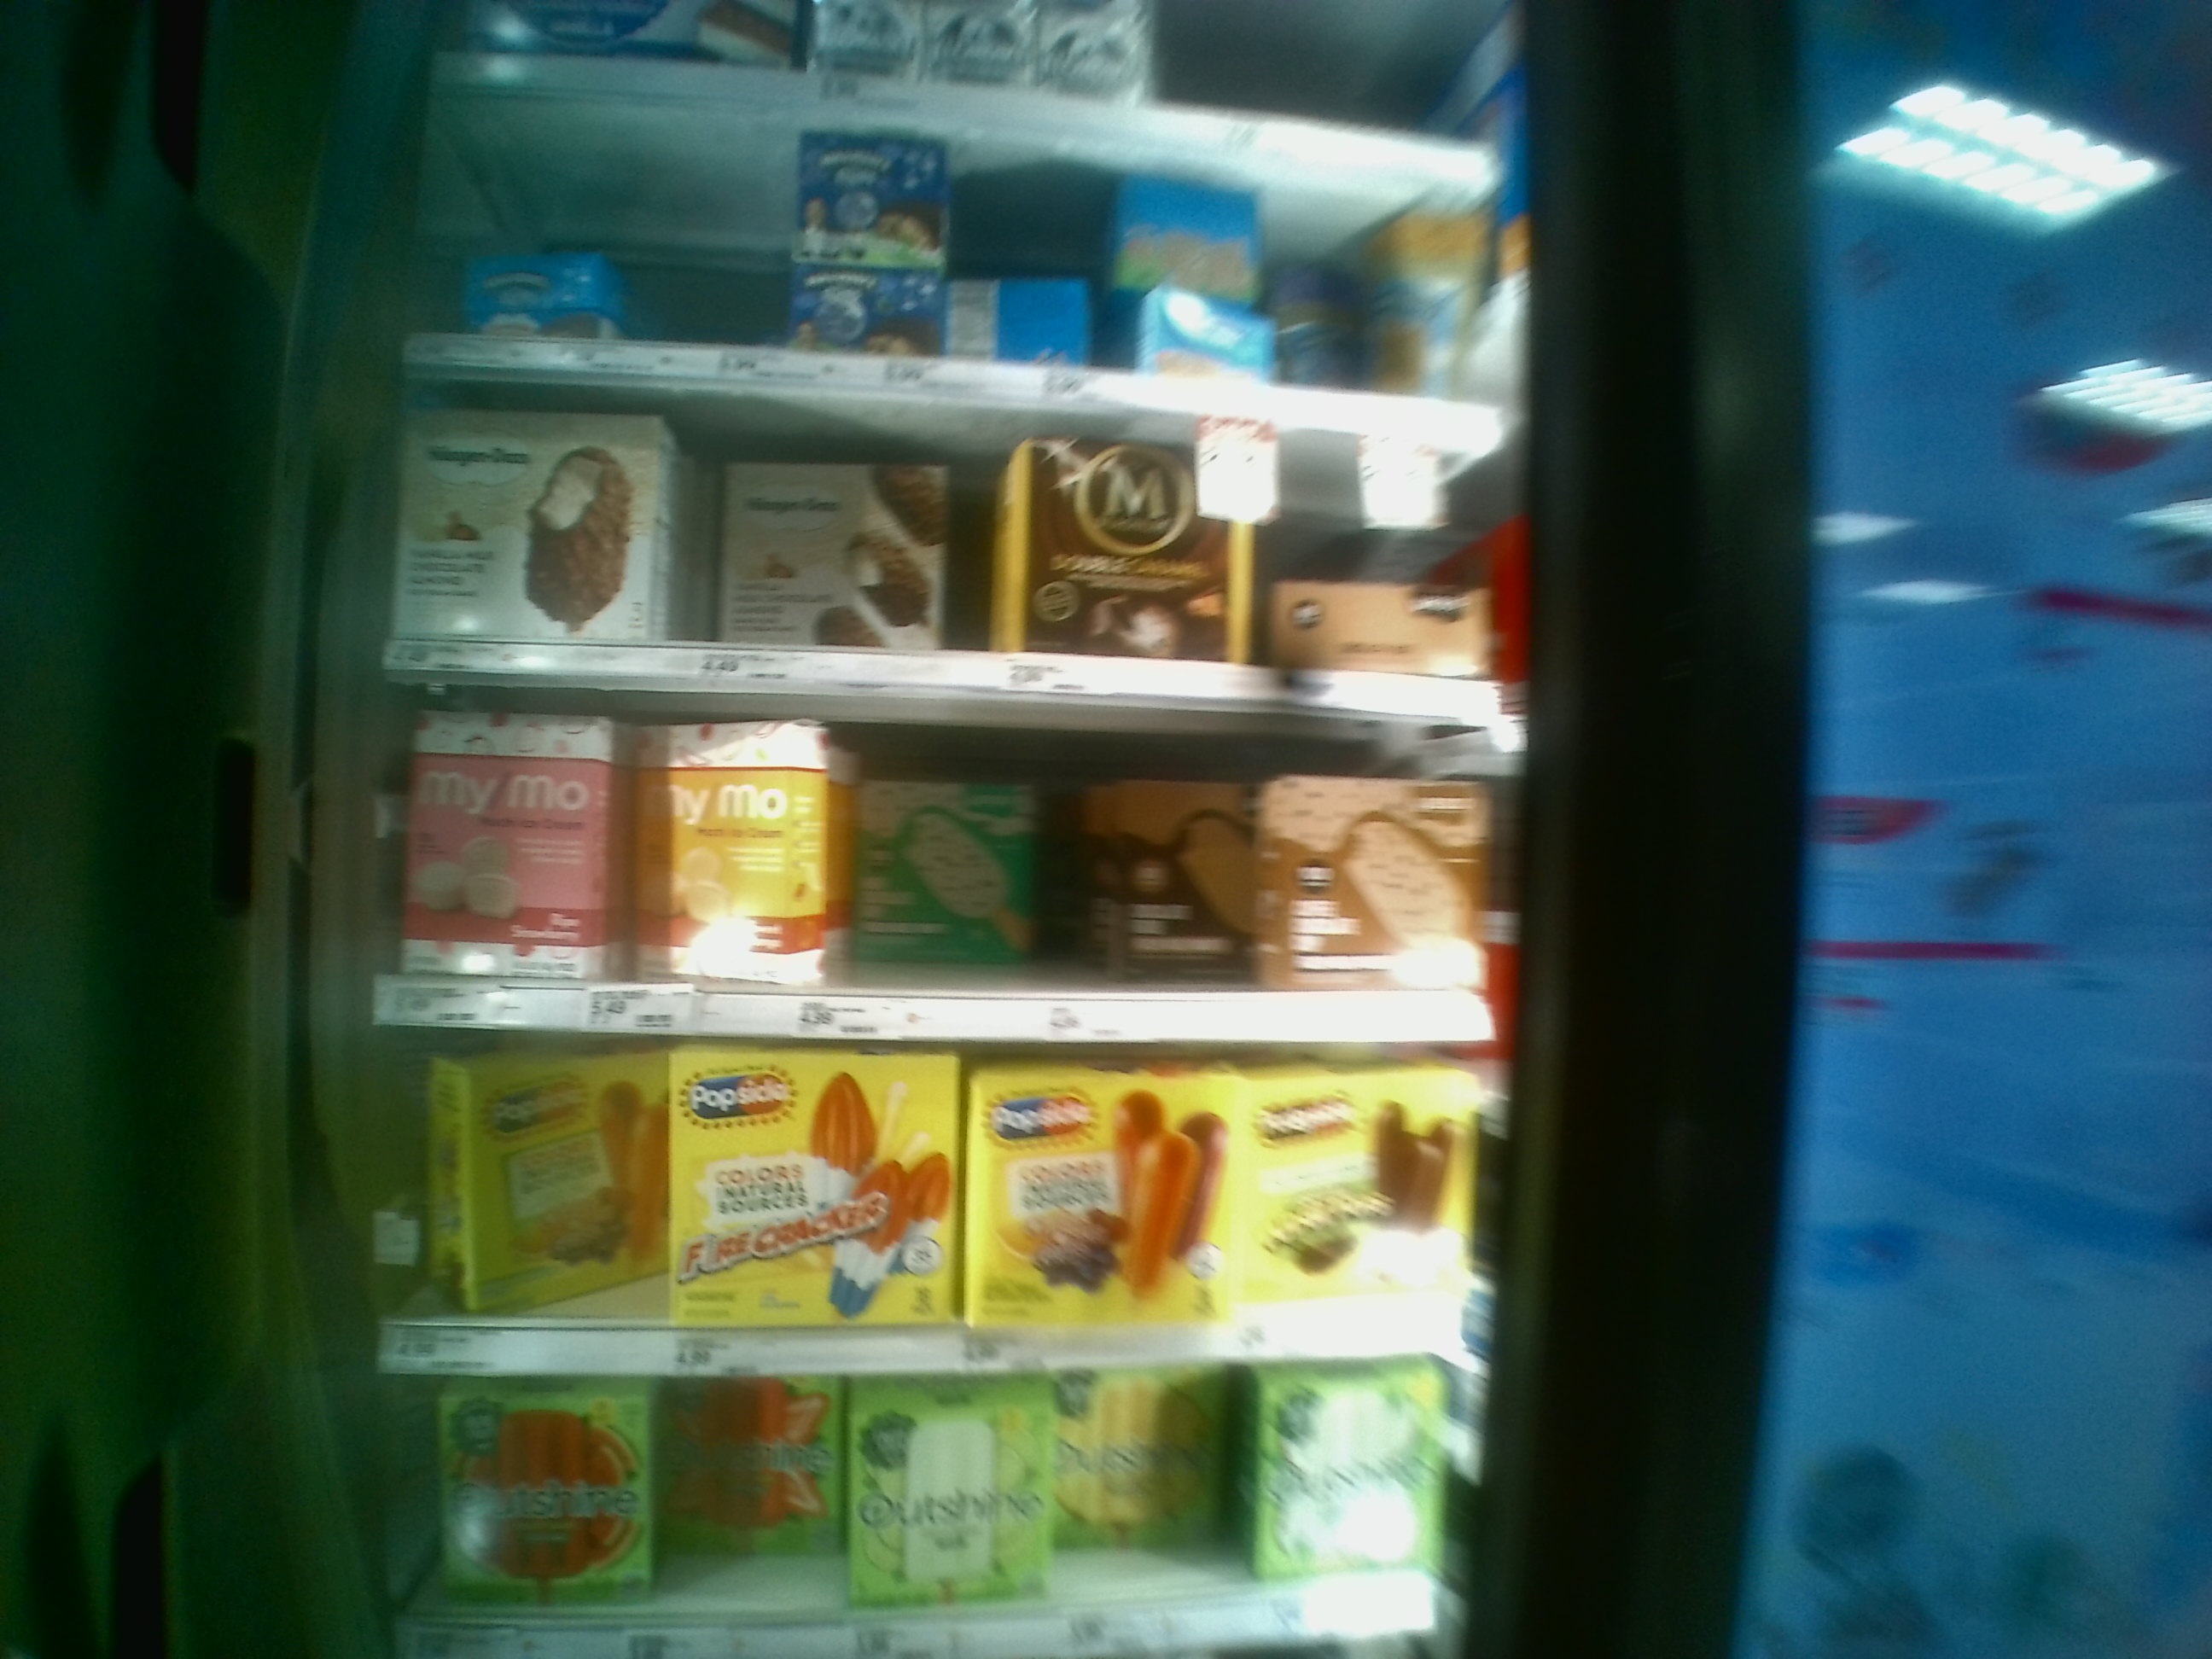ice-cream-shelf: (364, 1037, 1491, 1371)
